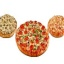pepperoni: (19, 23, 26, 31), (23, 35, 29, 42), (29, 43, 34, 51), (35, 38, 40, 45), (41, 24, 45, 32), (28, 26, 33, 32)
pizza: (14, 21, 49, 57), (1, 13, 17, 39), (48, 15, 64, 38)
